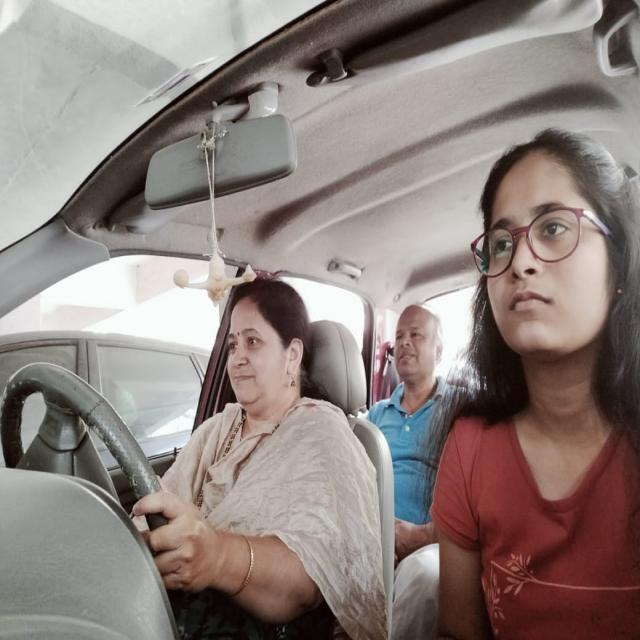person: (467, 126, 640, 376), (226, 275, 315, 418), (389, 297, 443, 391)
